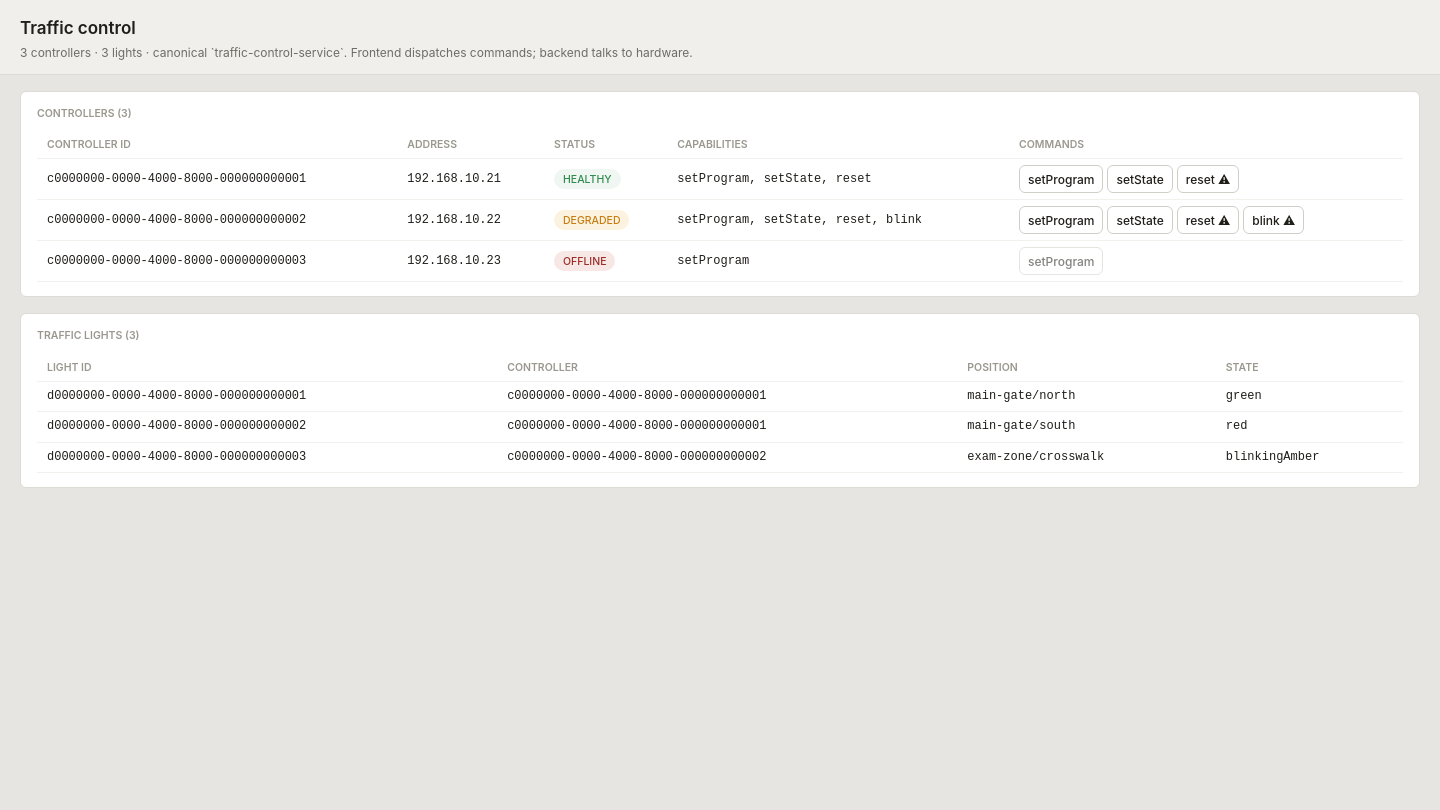
Scenario: TrafficControlScreen › non-destructive setProgram command is recorded without confirmation
Click the button "setProgram" in the row of "192.168.10.21". click: point(1061, 180)
box: [1019,166,1104,194]
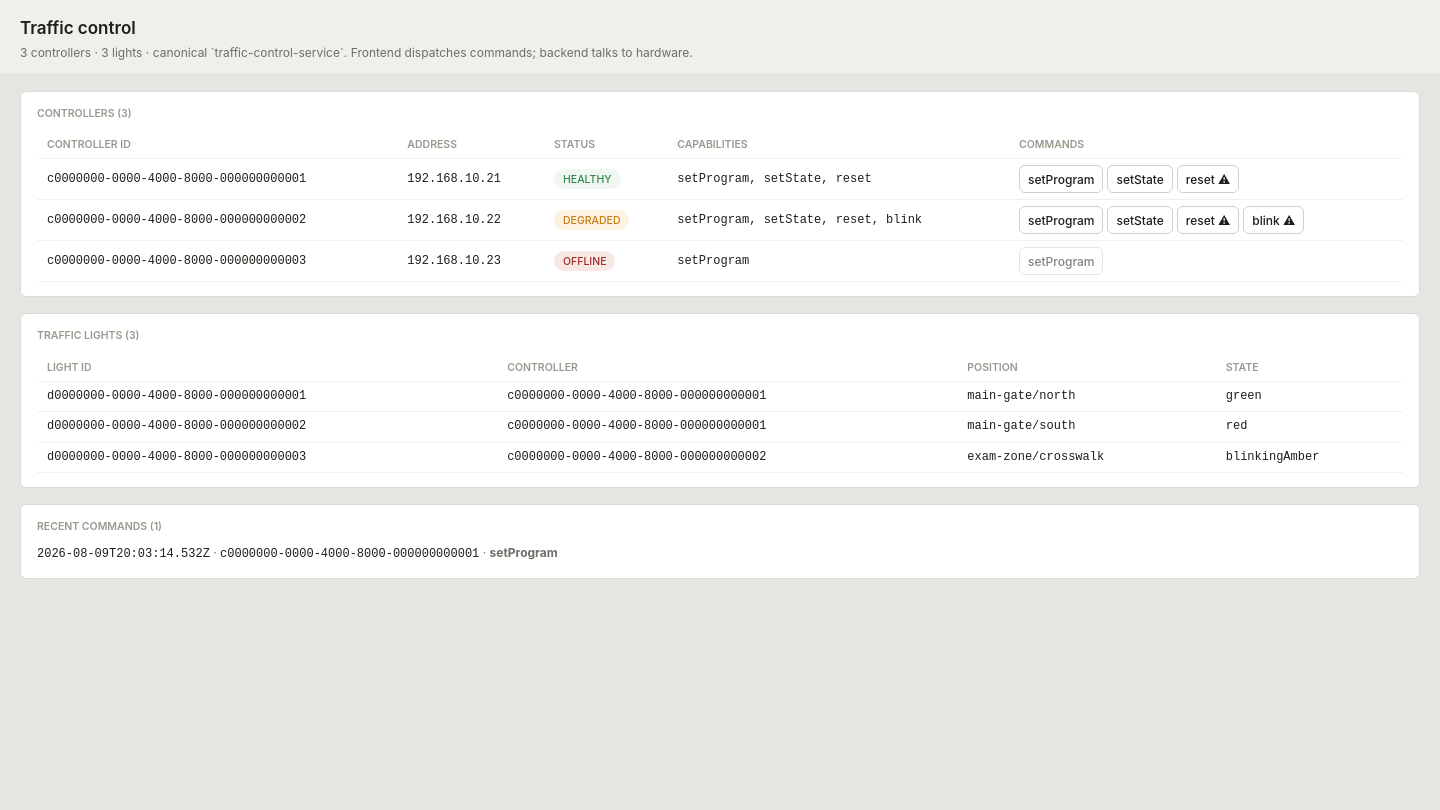
Result: the list named "recent traffic commands" is shown at [37,545,558,561]
